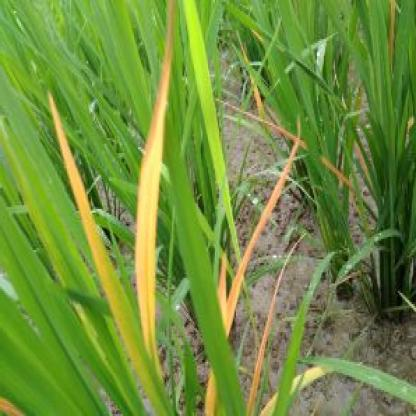Tungro: (130, 5, 179, 339)
